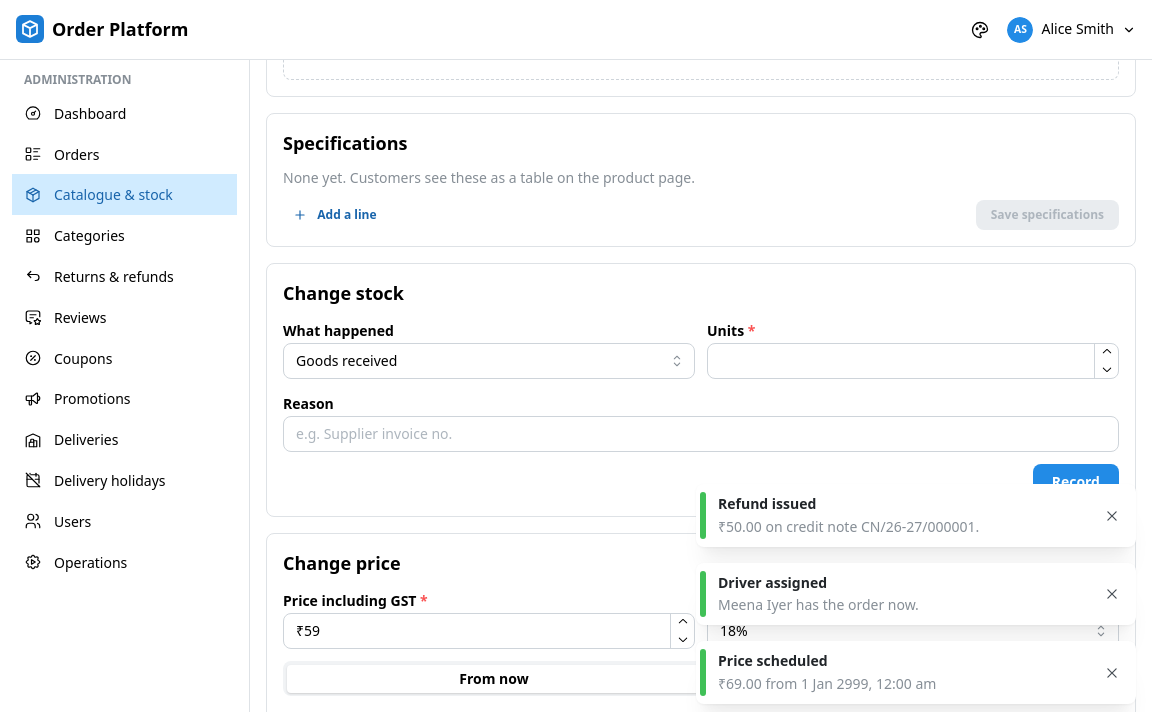
Test case: product page › asks for a reason before writing stock off
This screenshot has width=1152, height=712.
(page scrolled)
Click the dropdown labelled "What happened": [489, 361] box [283,343,695,379]
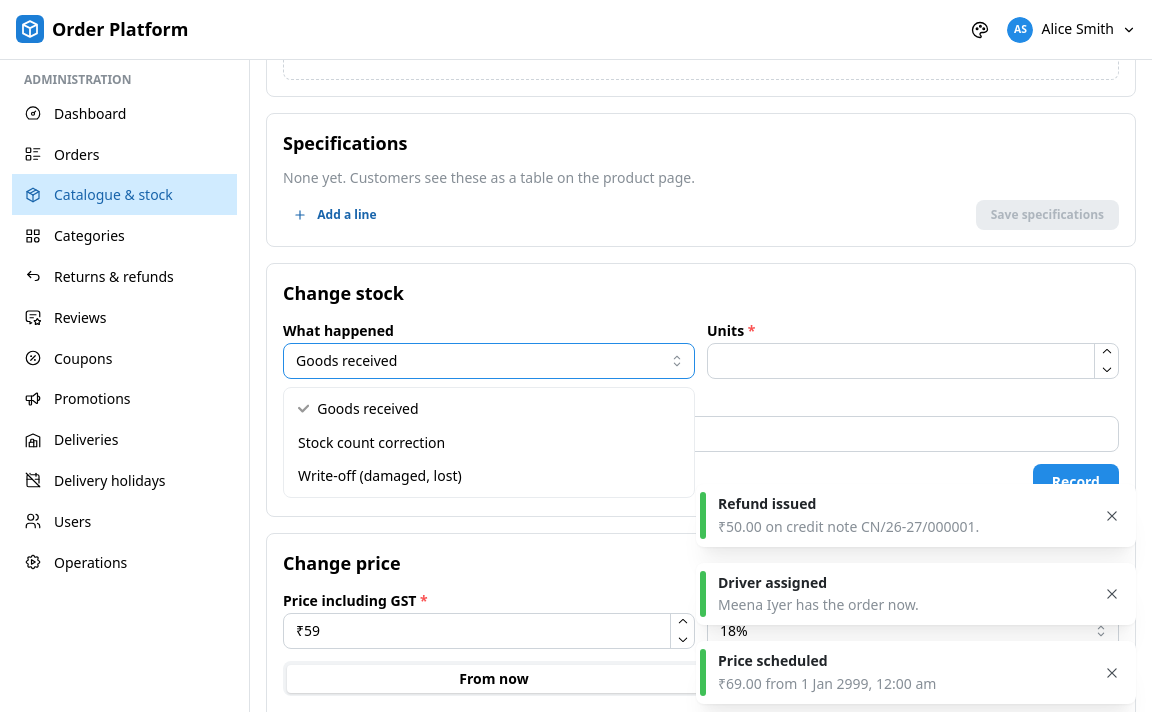
Click the option "Write-off (damaged, lost)": [380, 476] box [298,466,462,485]
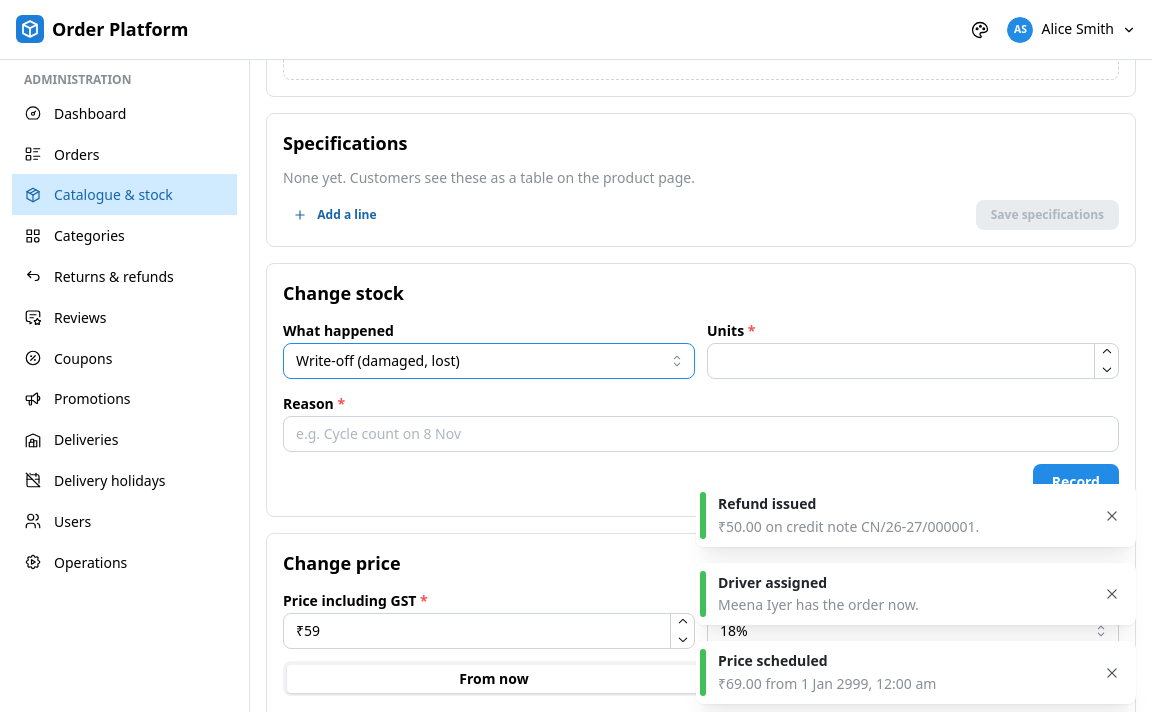
In the field labelled "Units *": [913, 361] box [707,343,1119,379], type "2"
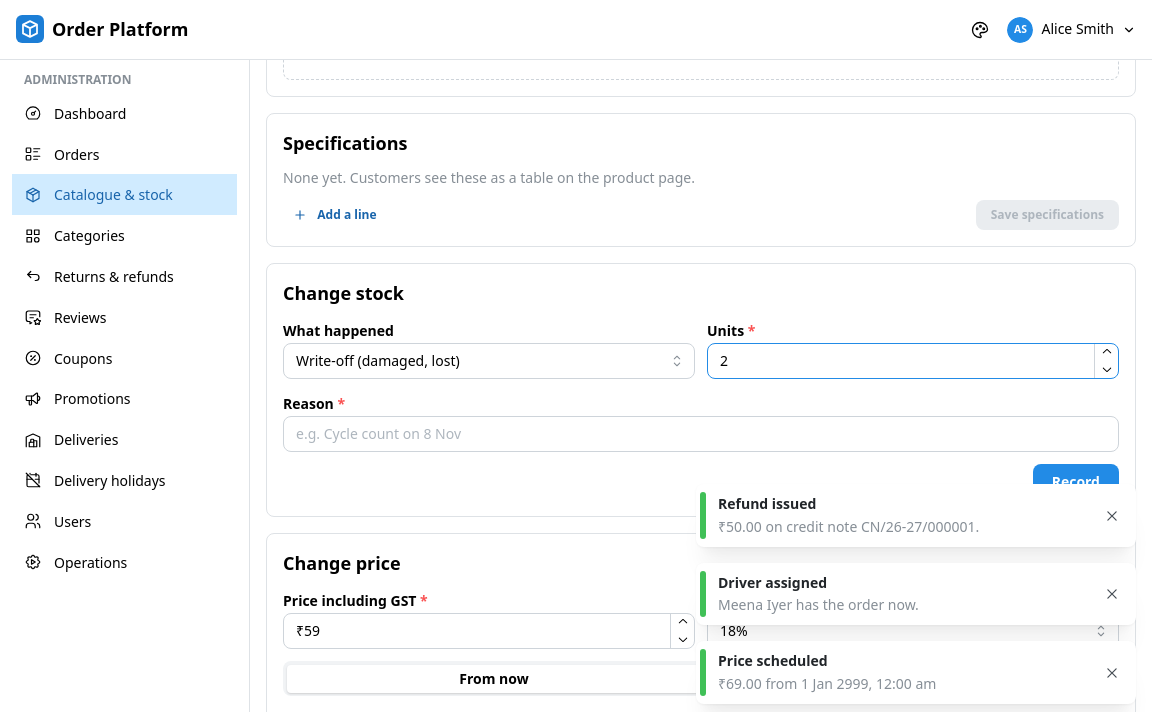
Click the button "Record": [1076, 482] box [1033,464,1119,500]
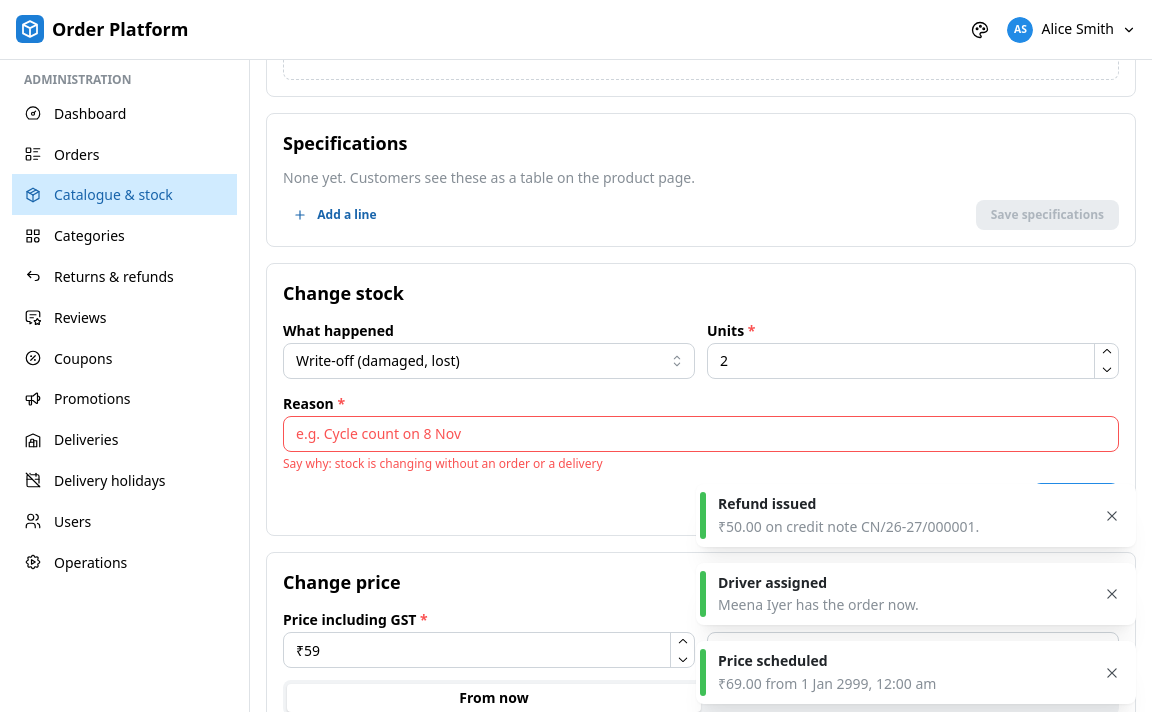
Now the text "Say why: stock is changing without an order or a delivery" is shown, box [283,455,602,472]
